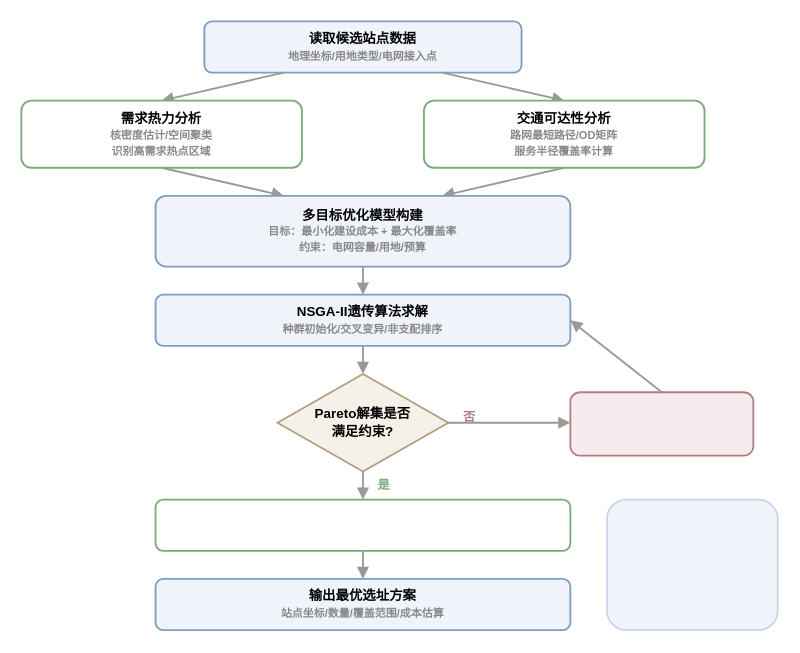
Some shapes in this 800 by 653 pixel diagram are drawn without their labels. The shapes that lost their labels are listed below. From the top down, each one's centre as x and y in pixels, then its label:
At (661,423): "调整约束参数 放宽/收紧预算 调整服务半径".
At (362,524): "TOPSIS综合评价排序 构建决策矩阵/熵权赋权/逼近理想解".
At (691,564): "工具与方法 Python + DEAP GeoPandas + OSMnx scikit-learn KDE Matplotlib可视化".
